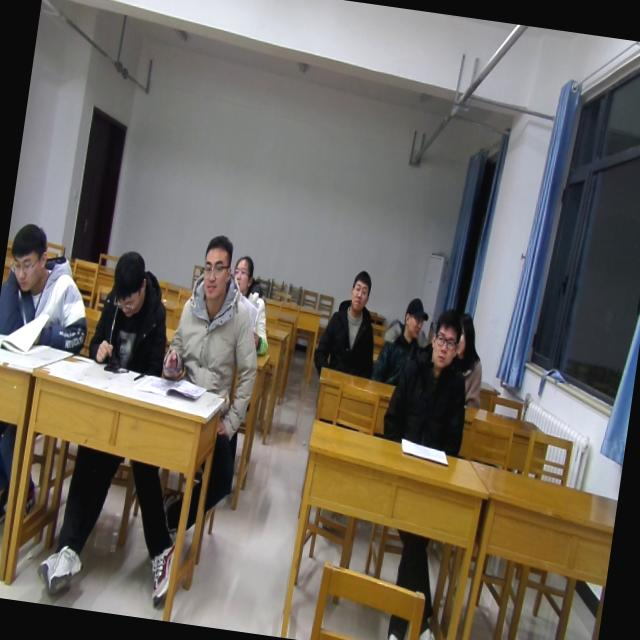bow: (0, 219, 102, 361)
down: (2, 218, 54, 298), (106, 245, 152, 318)
lookup: (192, 227, 238, 305), (426, 306, 464, 375), (228, 250, 260, 296), (346, 266, 376, 315)
sit: (160, 230, 274, 394), (380, 304, 482, 454), (86, 246, 179, 374), (312, 266, 387, 384), (222, 252, 282, 359), (372, 292, 436, 388), (446, 310, 492, 408)
